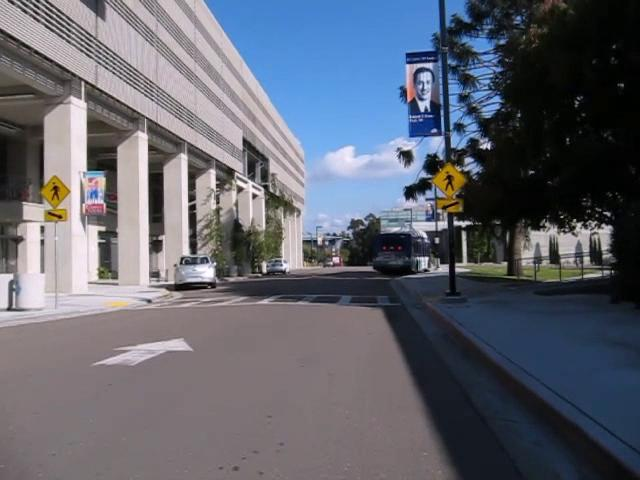pedestrianCrossing: (430, 161, 468, 199), (38, 174, 72, 208)
